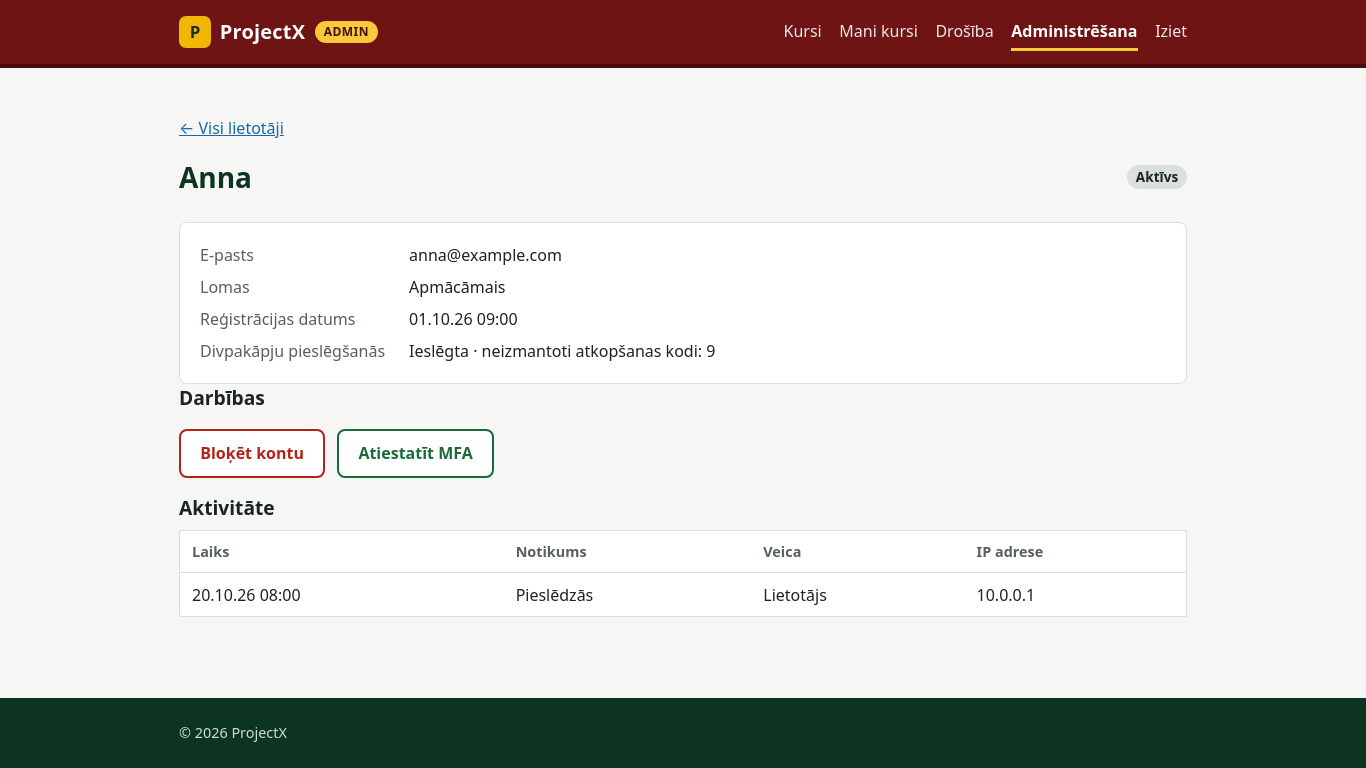
Scenario: admin user page › explains a refusal from the server in Latvian
Click the button "Bloķēt kontu" at x=252, y=453, box [179,429,325,478]
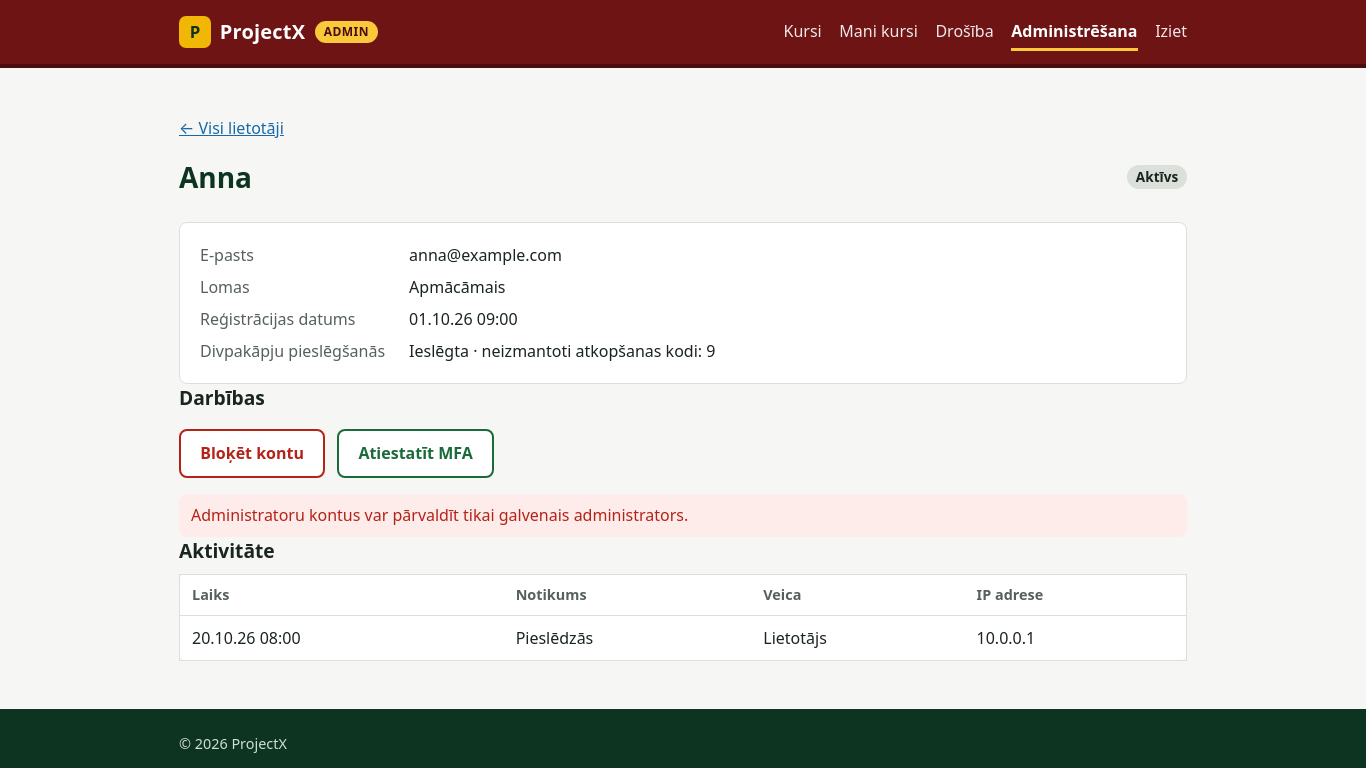
Expected: the message shows "tikai galvenais administrators", [191,504,688,526]
